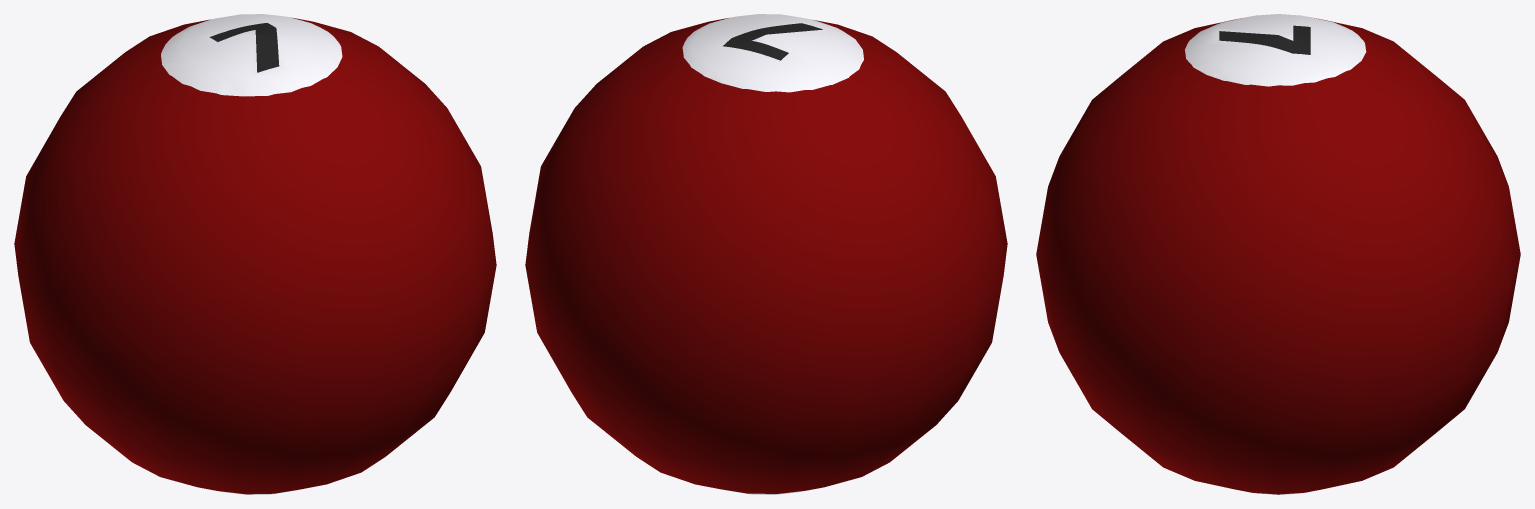
The model's file is 7ball.dae.
The picture shows the model from 3 angles, left to right: view 1: azimuth 30°, elevation 25°; view 2: azimuth 150°, elevation 25°; view 3: azimuth 270°, elevation 25°; orthographic projection.
Parts seen in each view (by area): view 1: Billiard_Ball__7_Maroon (×3); view 2: Billiard_Ball__7_Maroon (×3); view 3: Billiard_Ball__7_Maroon (×3).
Boxes of the visible parts, left/top/right/bottom form: Billiard_Ball__7_Maroon (×3): left=14, top=14, right=496, bottom=494; Billiard_Ball__7_Maroon (×3): left=525, top=14, right=1007, bottom=493; Billiard_Ball__7_Maroon (×3): left=1036, top=14, right=1520, bottom=494.
Size of the model in its own units: 1.58 by 1.58 by 1.58.
